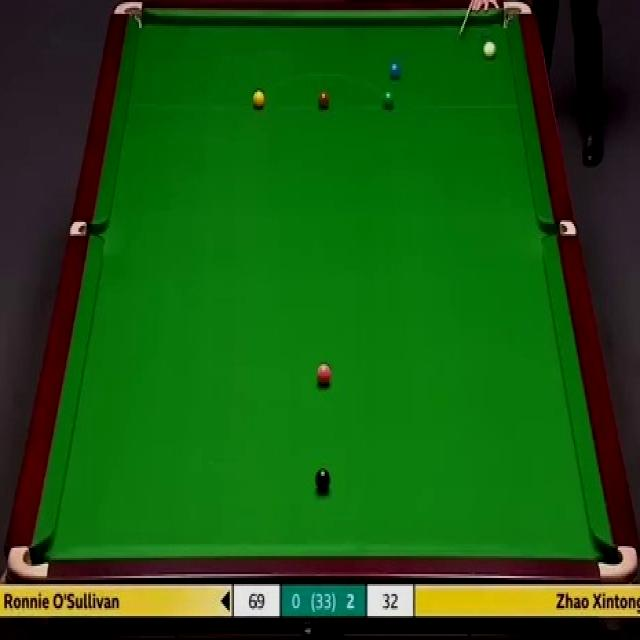black-ball: (315, 467, 331, 493)
blue-ball: (388, 61, 402, 79)
brown-ball: (317, 92, 330, 109)
green-ball: (382, 88, 396, 112)
pink-ball: (316, 362, 332, 389)
white-ball: (482, 42, 496, 58)
yellow-ball: (252, 89, 266, 110)
